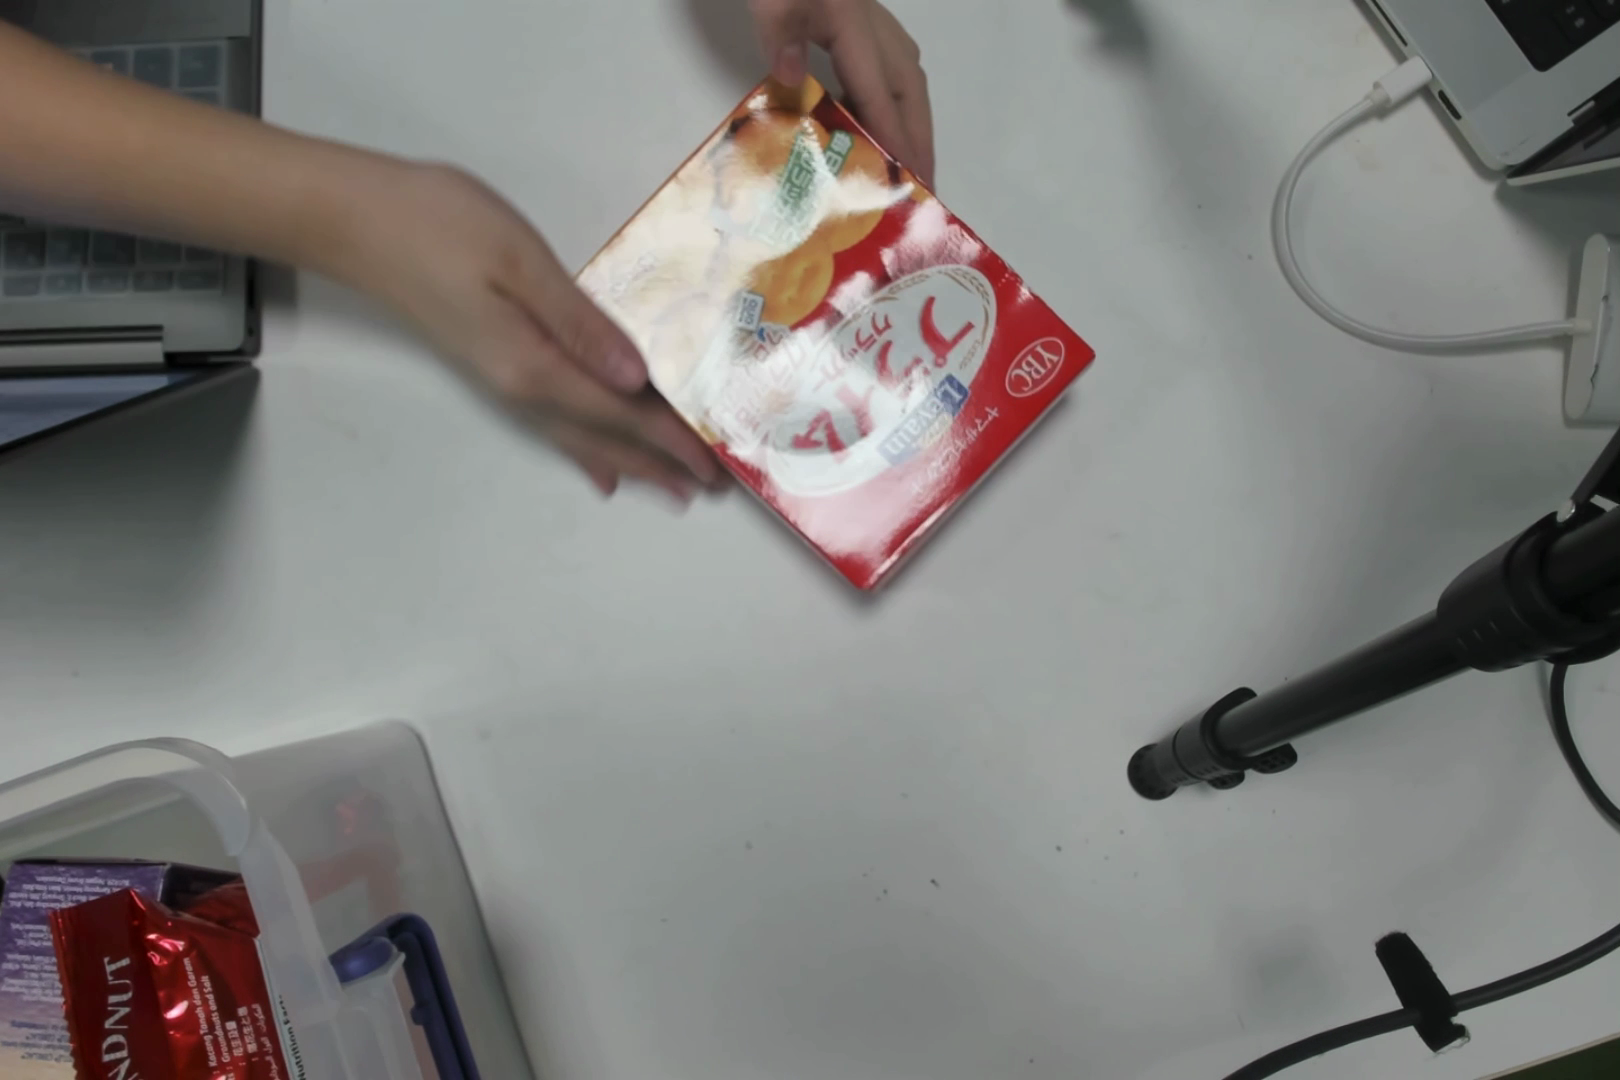c: (633, 125, 1088, 575)
